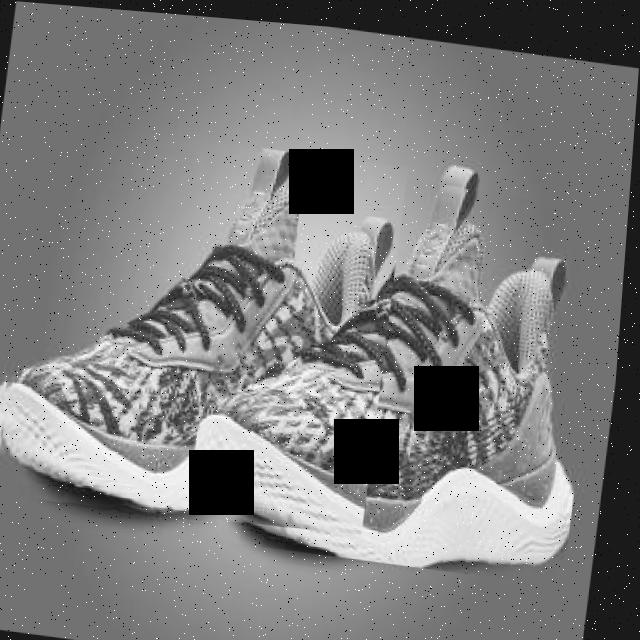shoe: (185, 140, 615, 578), (0, 115, 411, 538)
